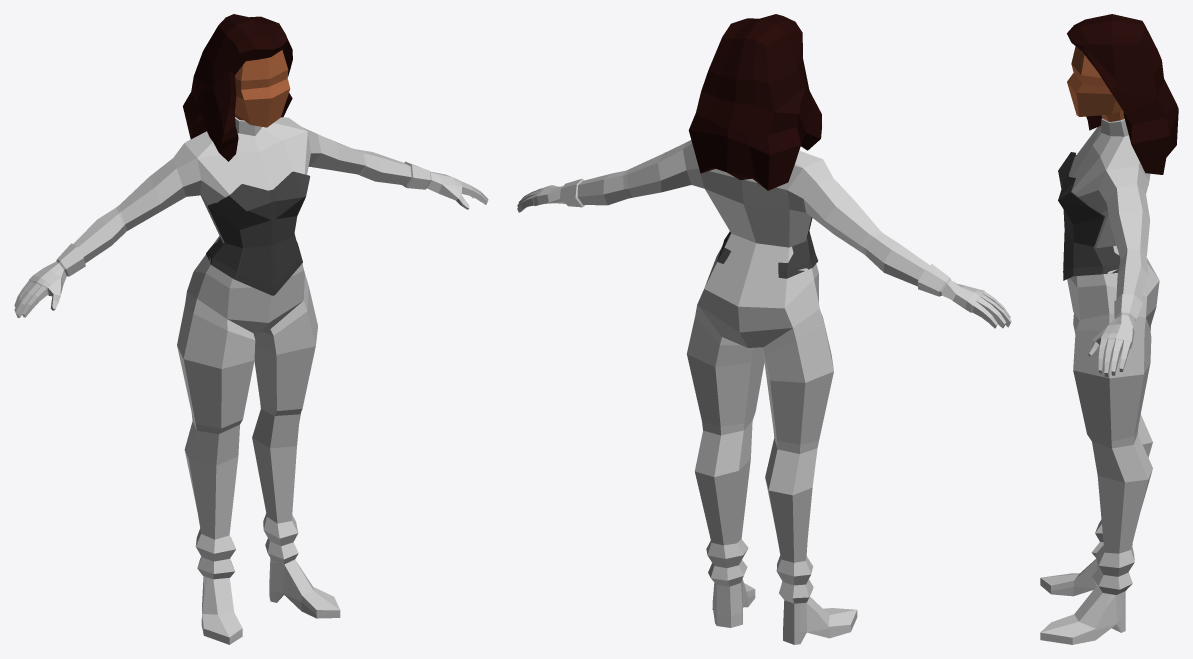
Rendered from Mara V (Personaje) - Facundo Túpac Martínez - jeretry_weighted.obj.
3 views of the same model, side by side, from view 1: azimuth 30°, elevation 25°; view 2: azimuth 150°, elevation 25°; view 3: azimuth 270°, elevation 25° (orthographic). The views are drawn at different scales.
Visible parts, largest first — view 1: Mara_Hair; view 2: Mara_Hair; view 3: Mara_Hair.
Part boxes in pixels (bbox=[...]): Mara_Hair: bbox=[14, 14, 488, 644]; Mara_Hair: bbox=[517, 14, 1011, 644]; Mara_Hair: bbox=[1040, 14, 1178, 644].
Size of the model in its own units: 1.51 by 1.79 by 0.3791.
